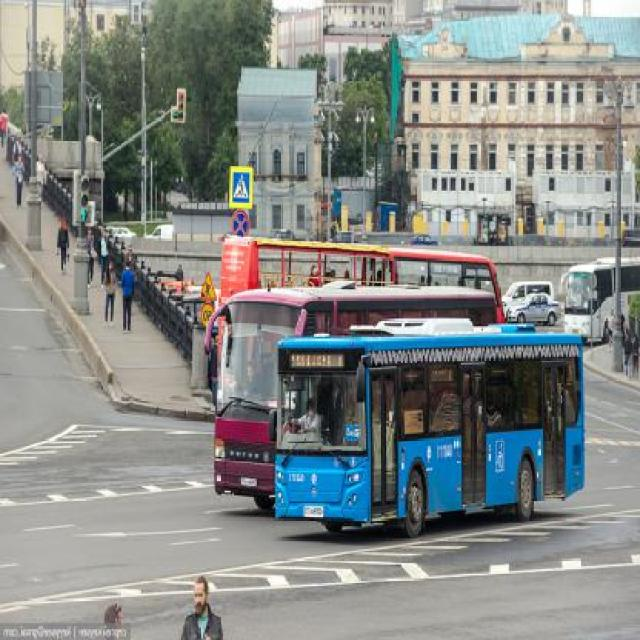bus: (276, 324, 584, 534)
